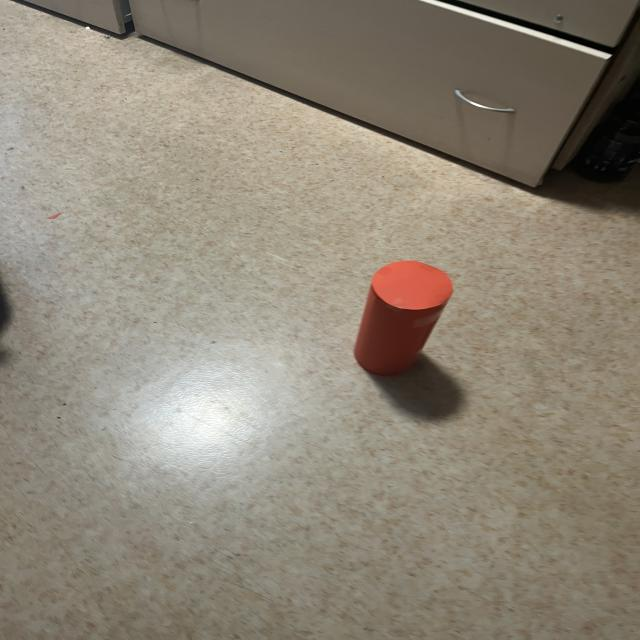przeszkoda: (354, 261, 452, 375)
